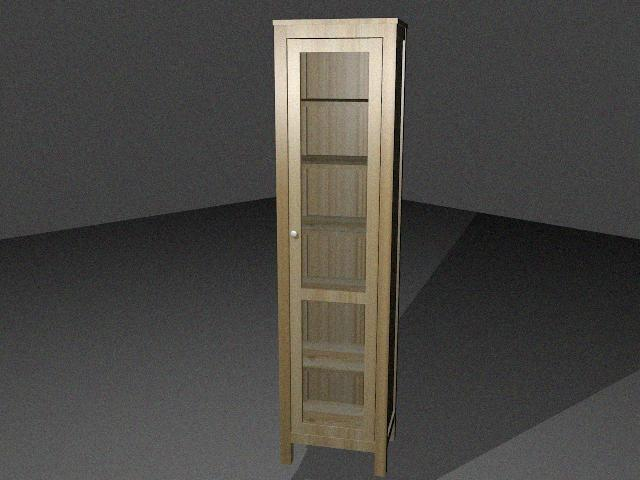cabinet_door: (289, 38, 379, 438)
handle: (287, 227, 301, 241)
